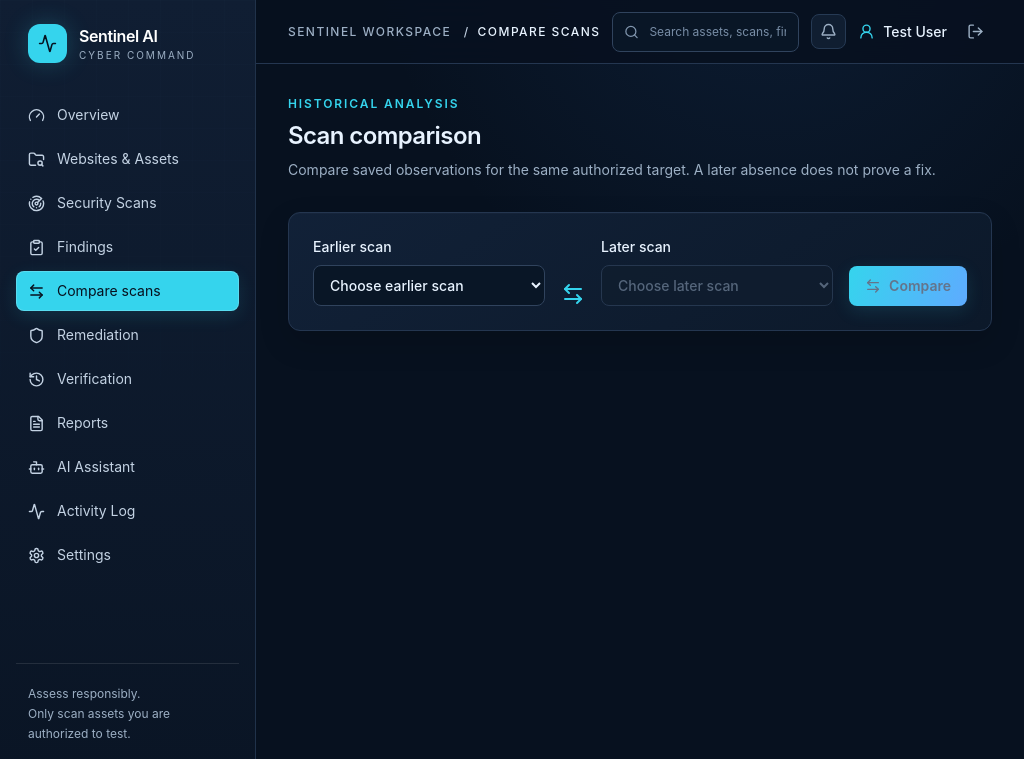
Test: Sentinel AI application shell › compares selected scans and explains absence limitations
Select "https://same.example · #1" in the dropdown labelled "Earlier scan" at coordinates (429, 286), box left=313, top=265, right=545, bottom=306
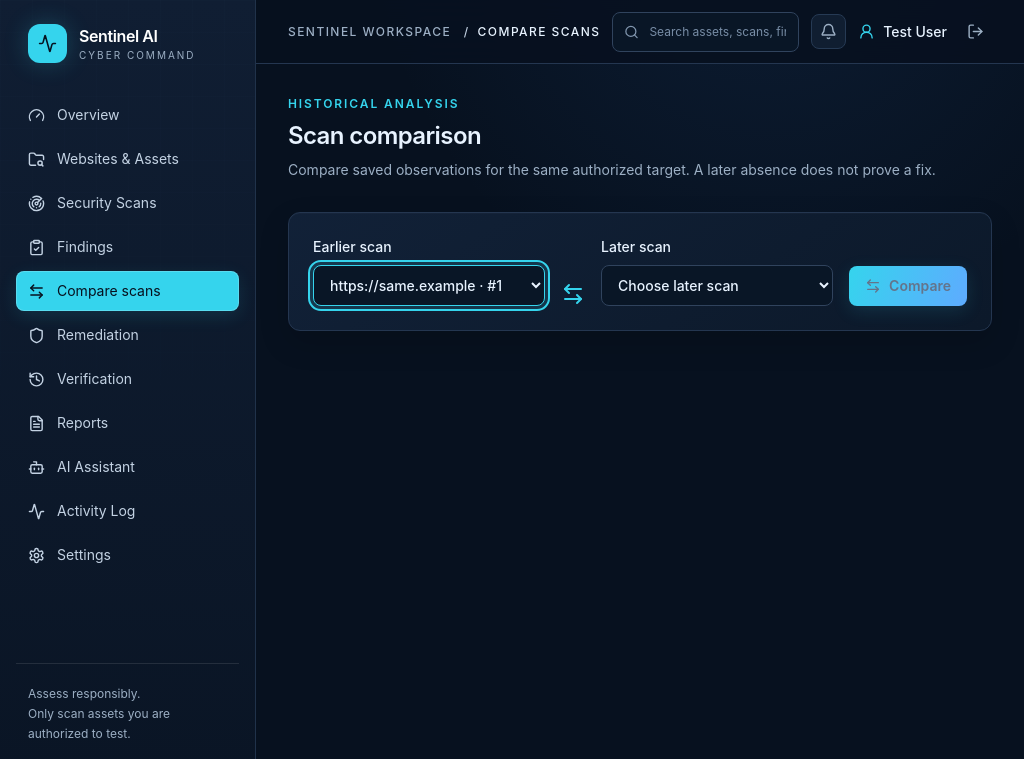
Select "https://same.example · #2" in the dropdown labelled "Later scan" at coordinates (717, 286), box left=601, top=265, right=833, bottom=306
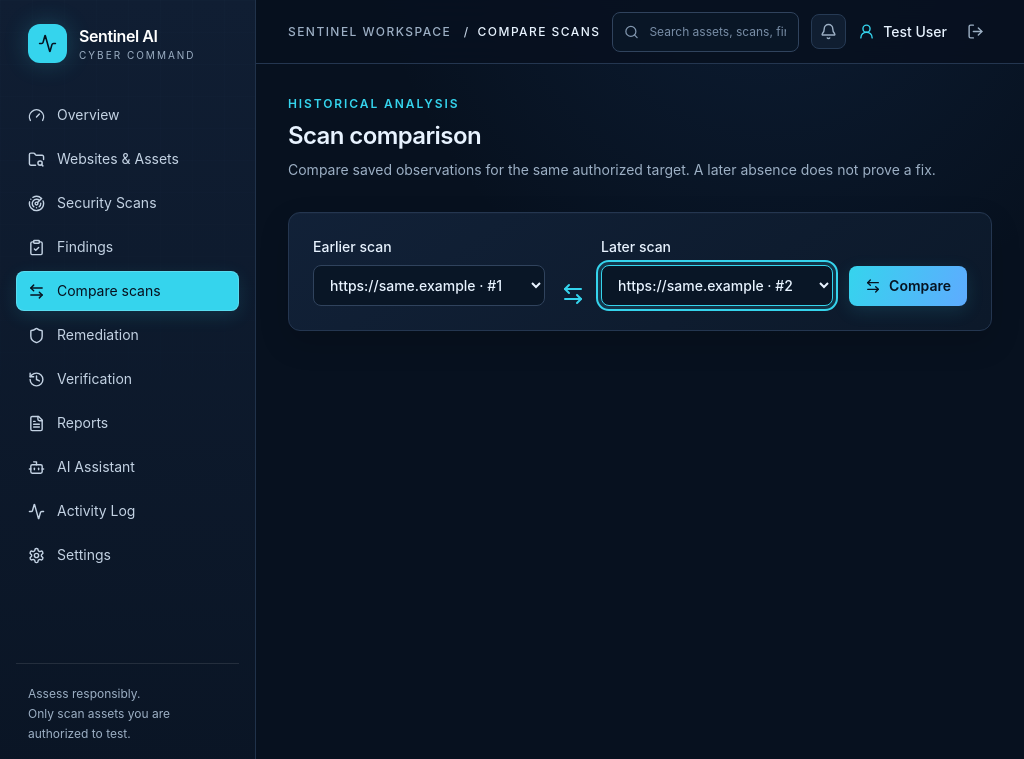
Click the button "Compare" at coordinates (908, 286), box left=849, top=266, right=967, bottom=306
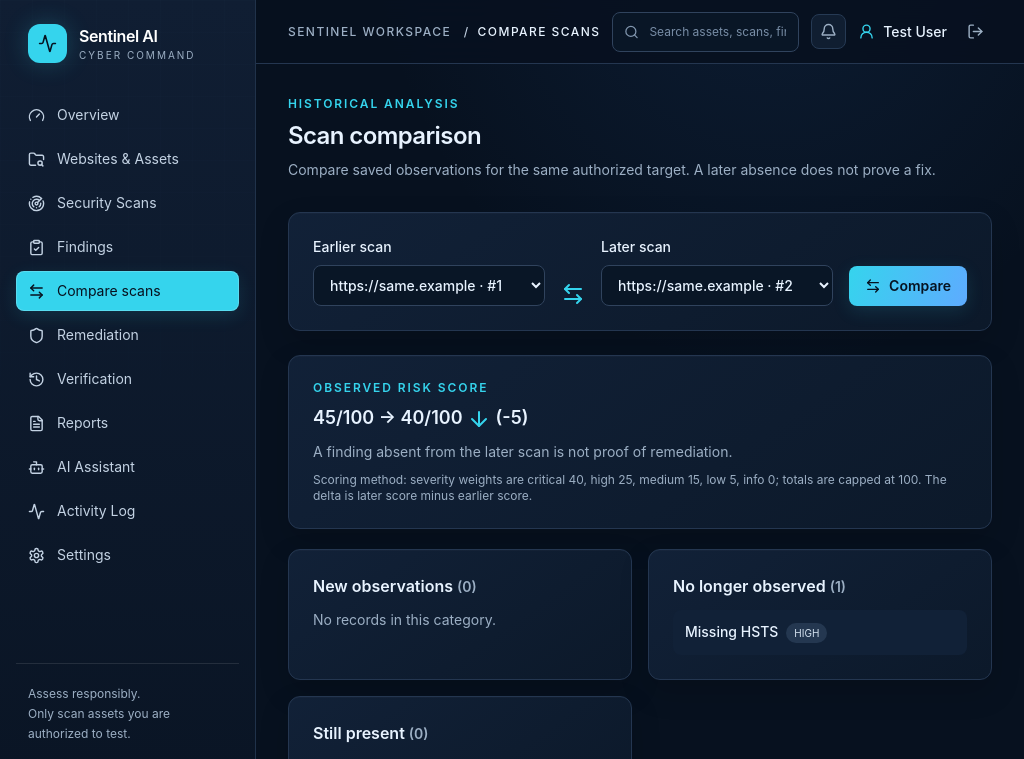
Now the text "Missing HSTS" is shown, box left=685, top=623, right=778, bottom=640
Now the text "A finding absent from the later scan is not proof of remediation." is shown, box left=313, top=443, right=732, bottom=460
